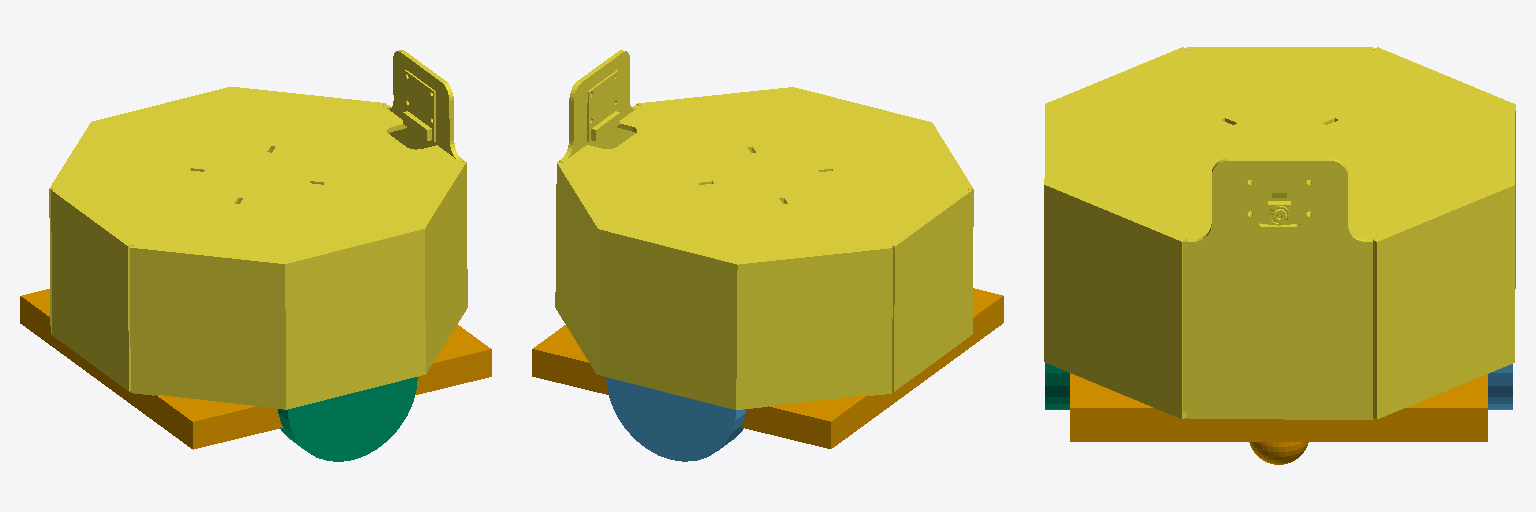
The robot description file, URDF, robot "Romi":
<?xml version="1.0" ?>
<robot name="Romi">

  <joint name="left_wheel_joint" type="continuous">
    <parent link="chassis"/>
    <child link="left_wheel"/>
    <origin rpy="1.57  0    0" xyz="-0.0015   0.08377  0.035"/>
    <axis xyz="0 0 1"/>
    <limit effort="-1.0" lower="-1.79769e+308" upper="1.79769e+308" velocity="-1.0"/>
  </joint>

  <joint name="right_wheel_joint" type="continuous">
    <parent link="chassis"/>
    <child link="right_wheel"/>
    <origin rpy="1.57 0 0" xyz="-0.0015  -0.08377  0.035"/>
    <axis xyz="0 0 1"/>
    <limit effort="-1.0" lower="-1.79769e+308" upper="1.79769e+308" velocity="-1.0"/>
  </joint>

  <joint name="tagboard_joint" type="fixed">
    <parent link="chassis"/>
    <child link="follower_tagboard"/>
    <origin rpy="1.00000000e-05  -9.63000000e-03  -1.22000000e-03" xyz="0.01141  0.01666  0.06974"/>
    <axis xyz="0  0  0"/>
    <limit effort="0" lower="0" upper="0" velocity="0"/>
  </joint>

  <link name="chassis">
    <inertial>
      <mass value="0.00251652"/>
      <origin rpy="0  0  0" xyz="0  0  0"/>
      <inertia ixx="6.31e-06" ixy="0" ixz="0" iyy="0.00020976" iyz="0" izz="0.00021598"/>
    </inertial>
    <collision>
      <origin rpy="0  0  0" xyz="-0.0015  0      0.027"/>
      <geometry>
        <box size="0.164 0.164 0.014559"/>
      </geometry>
    </collision>
    <visual>
      <origin rpy="0  0  0" xyz="-0.0015  0      0.027"/>
      <geometry>
        <box size="0.164 0.164 0.014559"/>
      </geometry>
    </visual>

	<collision name='front_caster_collision'>
      <origin rpy="0  0  0" xyz="-0.05199 0 0.012"/>
      <geometry>
        <sphere radius="0.012151"/>
      </geometry>
    </collision>

    <visual name='front_caster_visual'>
      <origin rpy="0  0  0" xyz="-0.05199 0 0.012"/>
      <geometry>
        <sphere radius="0.012151"/>
      </geometry>
    </visual>

	<collision name='back_caster_collision'>
      <origin rpy="0  0  0" xyz="0.05652 0 0.012"/>
      <geometry>
        <sphere radius="0.012151"/>
      </geometry>
    </collision>
    <visual name='back_caster_visual'>
      <origin rpy="0  0  0" xyz="0.05652 0 0.012"/>
      <geometry>
        <sphere radius="0.0121514"/>
      </geometry>
    </visual>																																																												

  </link>

  <link name="left_wheel">
    <inertial>
      <mass value="8.439e-05"/>
      <origin rpy="0  0  0" xyz="0  0  0"/>
      <inertia ixx="3e-08" ixy="0" ixz="0" iyy="3e-08" iyz="0" izz="5e-08"/>
    </inertial>
    <collision>
      <origin rpy="0  0  0" xyz="0  0  0"/>
      <geometry>
        <cylinder length="0.016404" radius="0.035867"/>
      </geometry>
    </collision>
    <visual>
      <origin rpy="0  0  0" xyz="0  0  0"/>
      <geometry>
        <cylinder length="0.0164037" radius="0.0358674"/>
      </geometry>
    </visual>
  </link>

  <link name="right_wheel">
    <inertial>
      <mass value="8.439e-05"/>
      <origin rpy="0  0  0" xyz="0  0  0"/>
      <inertia ixx="3e-08" ixy="0" ixz="0" iyy="3e-08" iyz="0" izz="5e-08"/>
    </inertial>
    <collision>
      <origin rpy="0  0  0" xyz="0  0  0"/>
      <geometry>
        <cylinder length="0.016404" radius="0.035867"/>
      </geometry>
    </collision>
    <visual>
      <origin rpy="0  0  0" xyz="0  0  0"/>
      <geometry>
        <cylinder length="0.0164037" radius="0.0358674"/>
      </geometry>
    </visual>
  </link>
  <link name="follower_tagboard">
    <inertial>
      <mass value="0.00151652"/>
      <origin rpy="0  0  0" xyz="0  0  0"/>
      <inertia ixx="0.166667" ixy="0" ixz="0" iyy="0.166667" iyz="0" izz="0.166667"/>
    </inertial>
    <collision>
      <origin rpy="0  0  0" xyz="0  0  0"/>
      <geometry>
        <mesh filename="package://robot_description/meshes/follower-tagboard.stl" scale="1.0 1.0 1.0"/>
      </geometry>
    </collision>
    <visual>
      <origin rpy="0  0  0" xyz="0  0  0"/>
      <geometry>
        <mesh filename="package://robot_description/meshes/follower-tagboard.stl" scale="1.0 1.0 1.0"/>
      </geometry>
    </visual>
  </link>
</robot>

--- Facts derived from the render (not from the file) ---
The picture shows the robot from 3 angles, left to right: view 1: azimuth 30°, elevation 25°; view 2: azimuth 150°, elevation 25°; view 3: azimuth 270°, elevation 25°; orthographic projection.
Robot: Romi — 4 links, 3 joints (2 continuous, 1 fixed); root link chassis; default pose: all joints at 0.
Links seen in each view (by area): view 1: follower_tagboard, chassis, right_wheel; view 2: follower_tagboard, chassis, left_wheel; view 3: follower_tagboard, chassis, right_wheel, left_wheel.
Link boxes in pixels (box(x1,y1,x2,y2)): follower_tagboard: box(49, 50, 467, 409); chassis: box(20, 289, 491, 449); right_wheel: box(278, 377, 417, 461); follower_tagboard: box(555, 50, 973, 409); chassis: box(532, 288, 1003, 448); left_wheel: box(606, 377, 745, 461); follower_tagboard: box(1044, 47, 1515, 419); chassis: box(1070, 373, 1487, 464); right_wheel: box(1045, 363, 1069, 409); left_wheel: box(1488, 364, 1512, 409).
Bounding box of the posed robot: 0.1878 × 0.185 × 0.1478 m (x, y, z).
Meshes: 1 distinct files referenced, 1 mesh visuals loaded (1 binary STL).